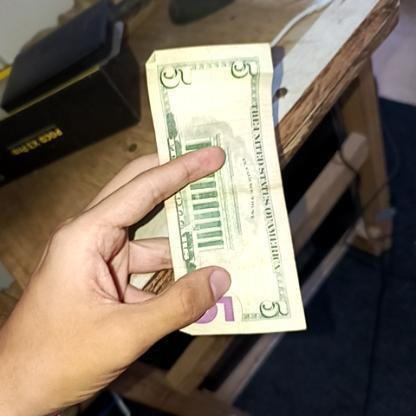dollar_back: (142, 40, 300, 336)
